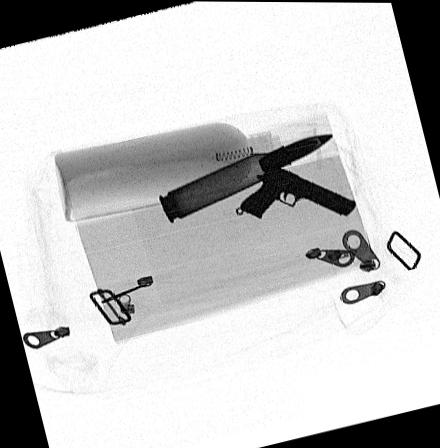Bullet: (157, 134, 333, 222)
Gun: (237, 164, 358, 220)
